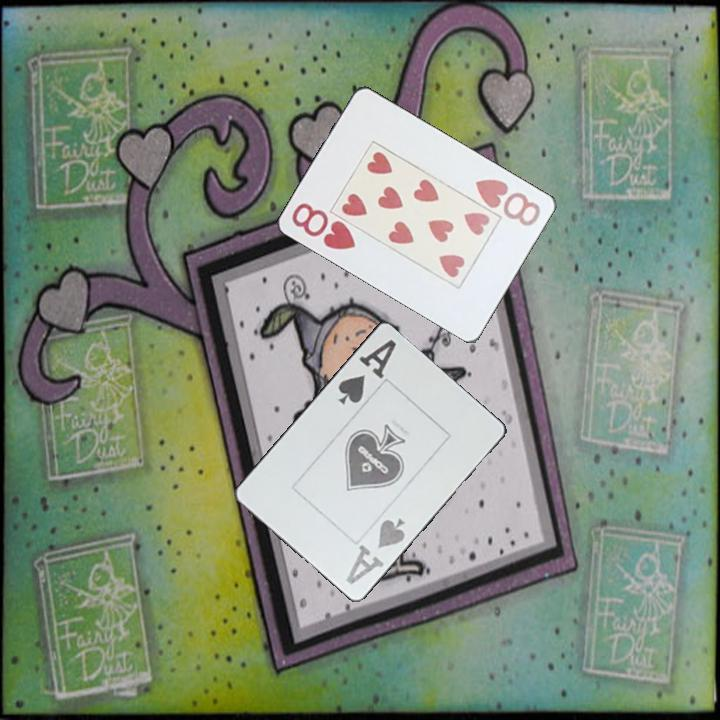8h: (472, 175, 544, 229), (288, 199, 359, 253)
As: (342, 514, 409, 588), (334, 335, 399, 408)
